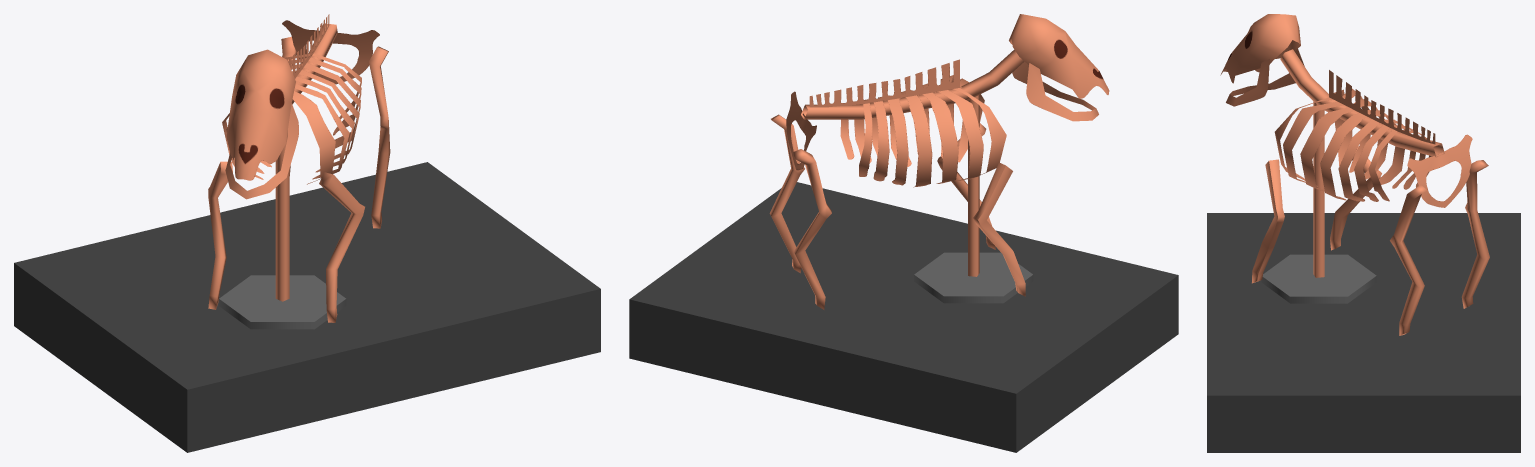
Rendered from Esqueleto_Museu.fbx.
3 renders of one model, left to right at view 1: azimuth 30°, elevation 25°; view 2: azimuth 150°, elevation 25°; view 3: azimuth 270°, elevation 25°, orthographic. The views are drawn at different scales.
Parts seen in each view (by area): view 1: Esqueleto_Museu; view 2: Esqueleto_Museu; view 3: Esqueleto_Museu.
Part boxes in pixels (x1,y1,x2,y2): Esqueleto_Museu: (14, 14, 600, 452); Esqueleto_Museu: (629, 14, 1178, 452); Esqueleto_Museu: (1207, 14, 1520, 452).
Size of the model in its own units: 182 by 144 by 132.
Materials: 1 (1 with a texture image).
